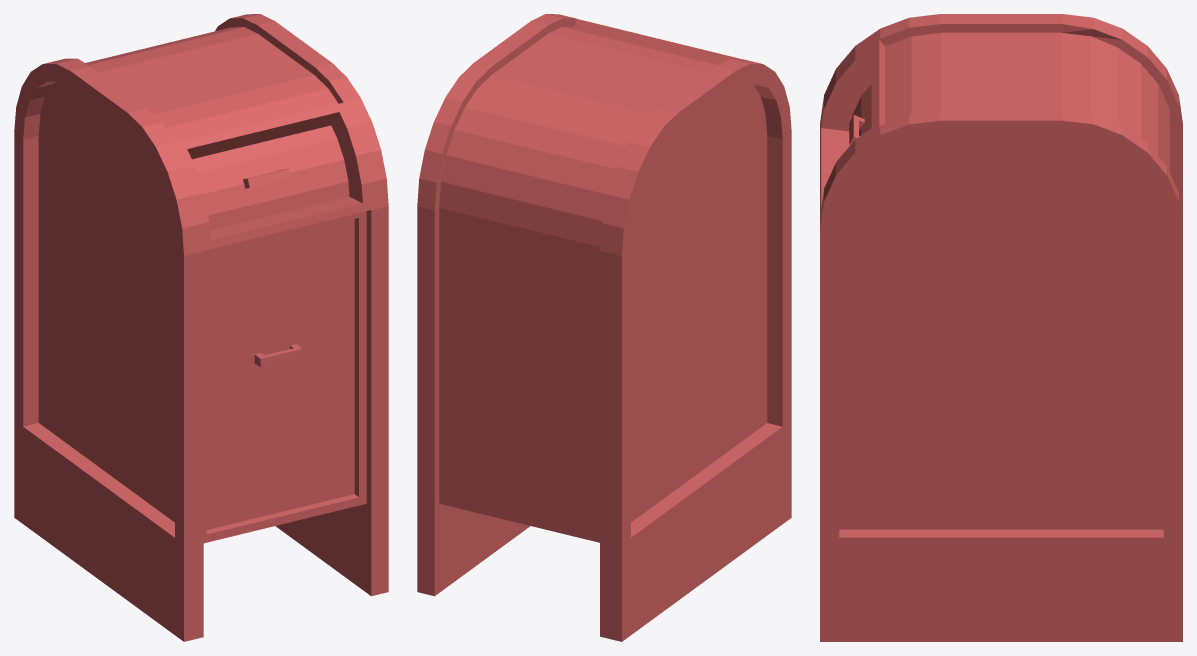
File: mailbox.fbx
3 renders of one model, left to right at view 1: azimuth 30°, elevation 25°; view 2: azimuth 150°, elevation 25°; view 3: azimuth 270°, elevation 25°, orthographic. The views are drawn at different scales.
Visible parts, largest first — view 1: pCube1, pCube3; view 2: pCube1; view 3: pCube1.
Boxes of the visible parts, box(x1,y1,x2,y2) form: pCube1: box(14, 14, 388, 641); pCube3: box(254, 344, 302, 367); pCube1: box(417, 14, 791, 641); pCube1: box(820, 14, 1182, 641).
Size of the model in its own units: 2.64 by 6 by 3.79.
